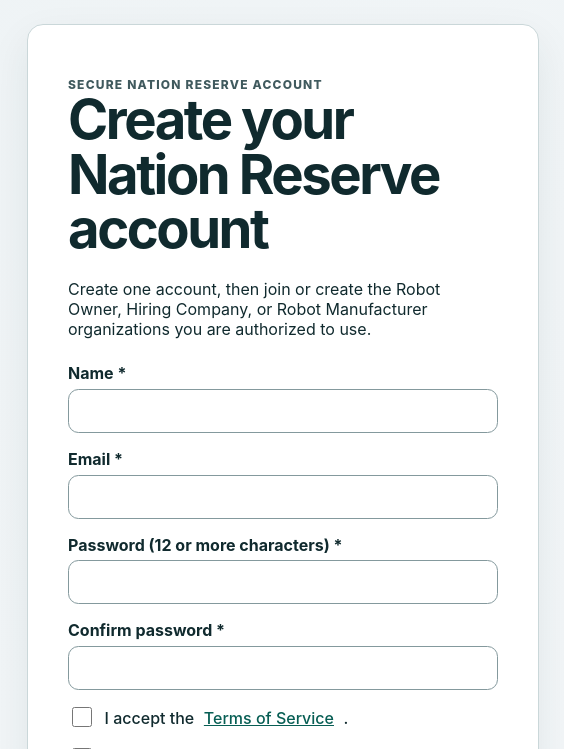
Test case: Prompt 014 shared account UI › collects only shared account fields and validates matching passwords
This screenshot has width=564, height=749.
Check: the field named "Name" is shown, box [68, 389, 498, 433]
Type "long-password-value" into the password field named "Password (12 or more characters)" at [283, 582], box [68, 560, 498, 604]
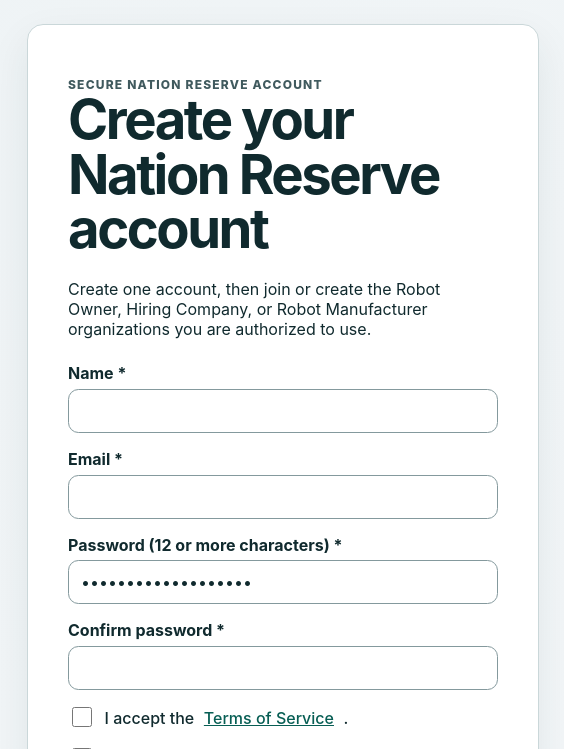
Type "different-password" into the password field named "Confirm password" at [283, 668], box [68, 646, 498, 690]
(page scrolled)
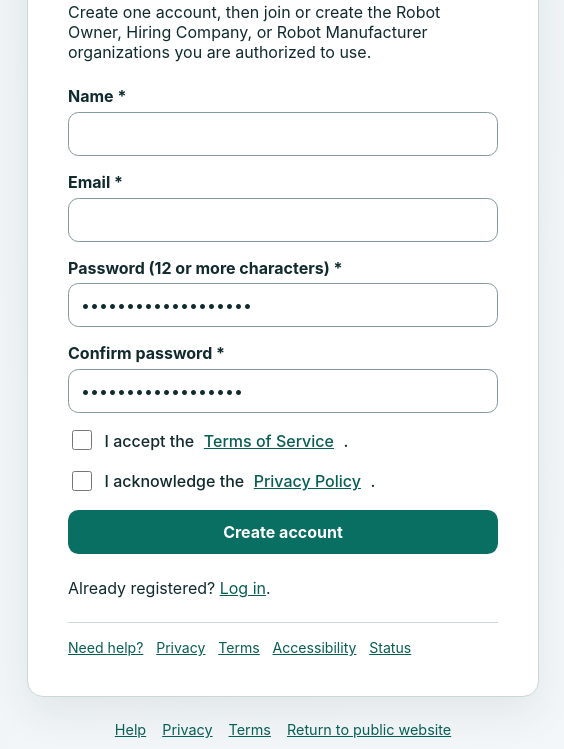
Click the button "Create account" at [283, 532], box [68, 510, 498, 554]
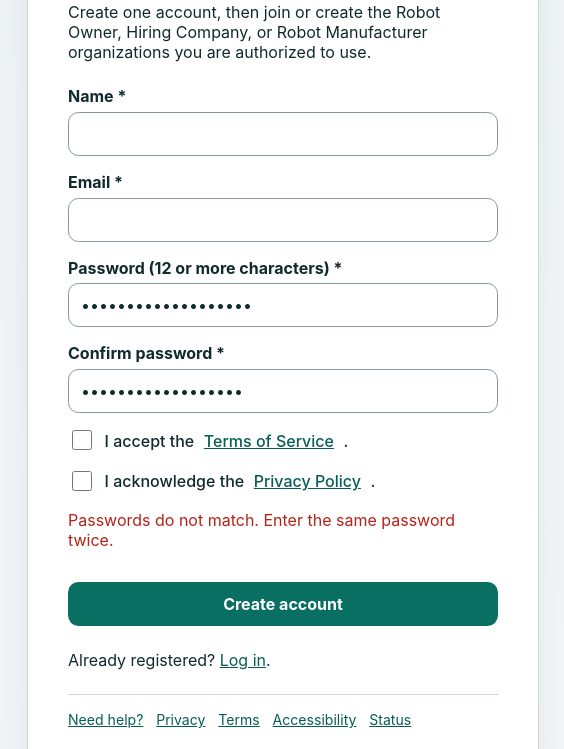
Check: the message shows "Passwords do not match", box [68, 510, 455, 550]
